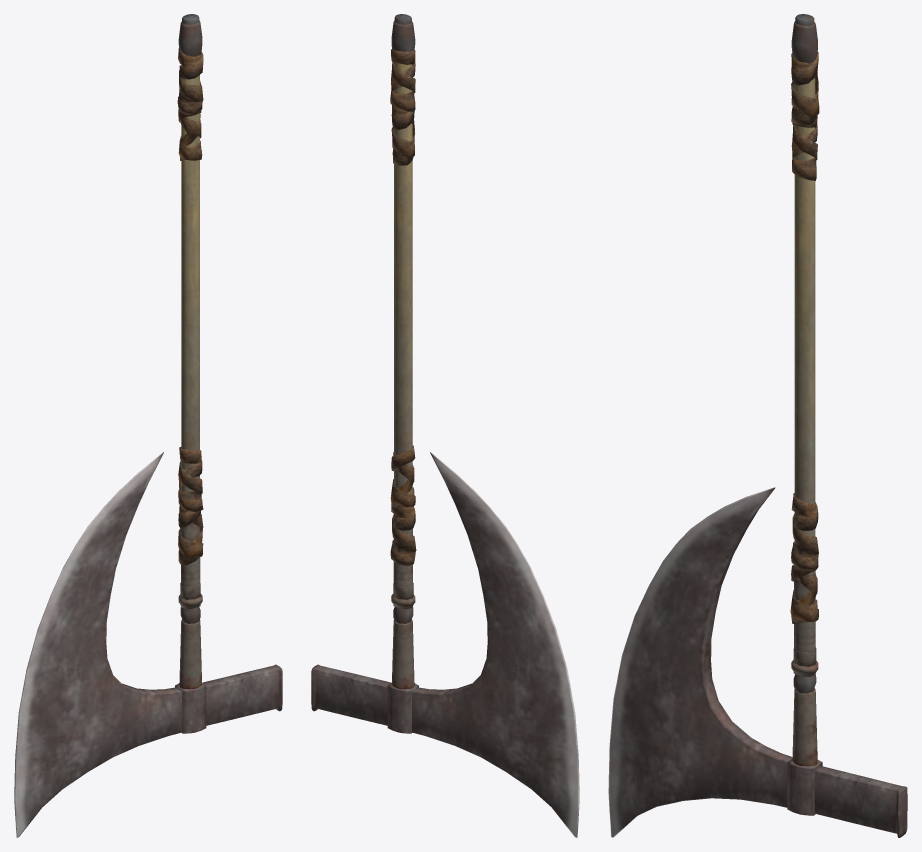
File: weapon-wp_a_0752.glb
3 views of the same model, side by side, from view 1: azimuth 30°, elevation 25°; view 2: azimuth 150°, elevation 25°; view 3: azimuth 330°, elevation 25° (orthographic). The views are drawn at different scales.
Visible parts, largest first — view 1: wp_a_0752_mesh; view 2: wp_a_0752_mesh; view 3: wp_a_0752_mesh.
Part boxes in pixels (x1,y1,x2,y2): wp_a_0752_mesh: (14,14,282,837); wp_a_0752_mesh: (311,14,579,837); wp_a_0752_mesh: (608,14,907,837).
Bounding box in the file's own units: 0.695 × 1.95 × 0.0523.
2 materials, 2 textured.
